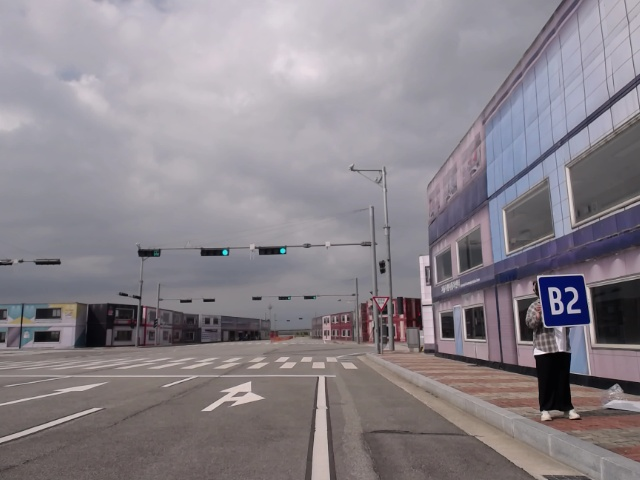delivery_b2: (534, 272, 595, 329)
straight_green_4: (198, 245, 230, 260), (256, 244, 288, 259), (277, 294, 293, 301), (303, 295, 318, 301)
